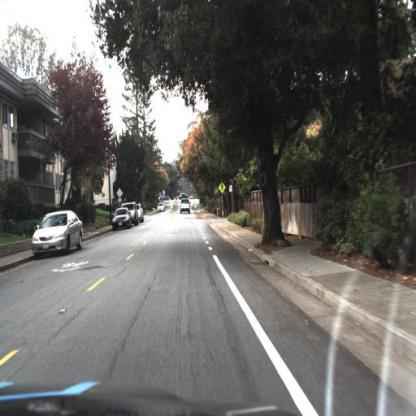car: (31, 210, 86, 256), (113, 208, 132, 229), (180, 196, 192, 218)
